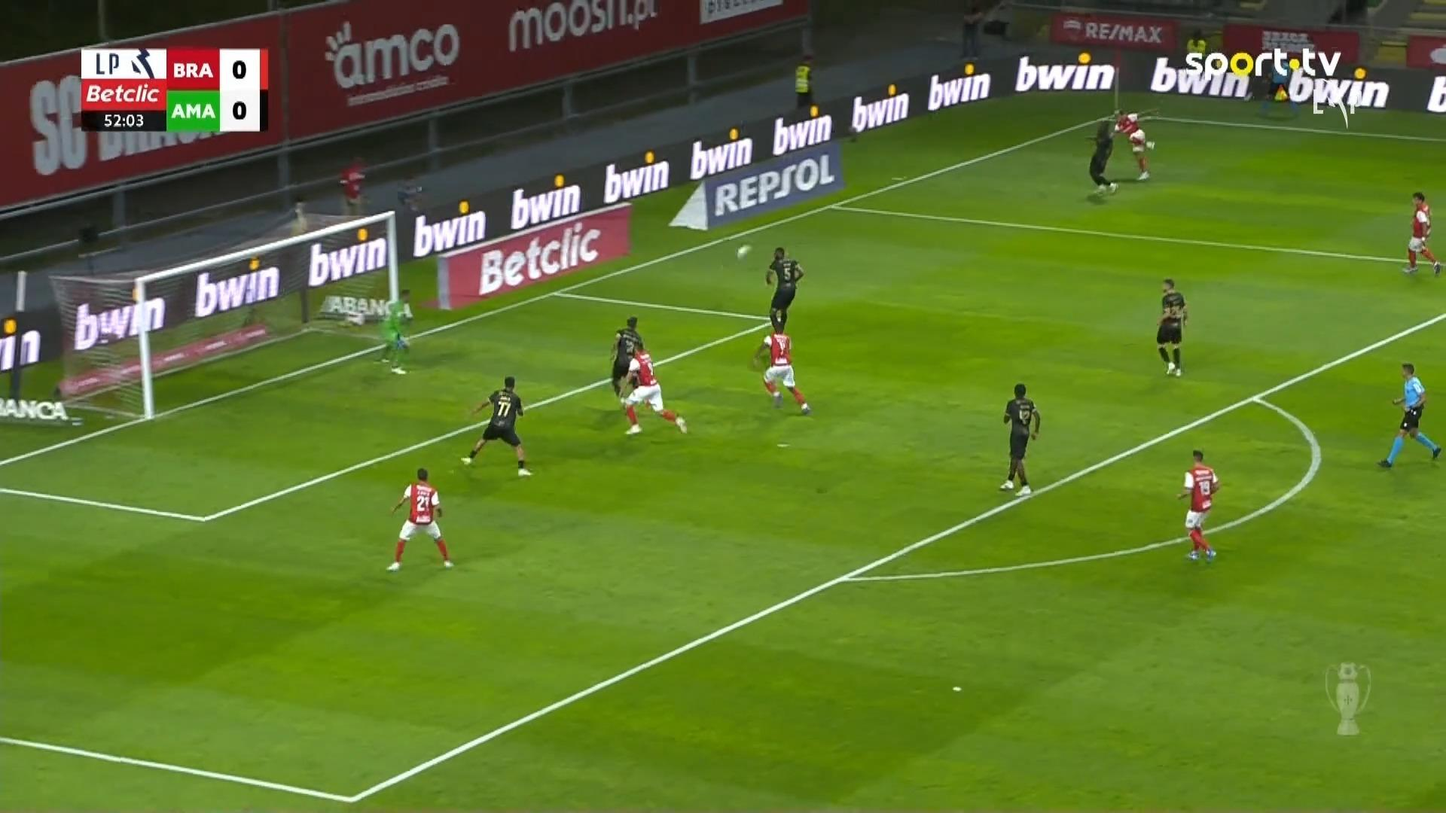ball: (736, 244, 752, 260)
goalkeeper: (377, 288, 413, 375)
player: (459, 375, 532, 477), (385, 467, 453, 571), (617, 340, 688, 435), (751, 311, 811, 415), (1176, 449, 1219, 561), (998, 382, 1039, 496), (1401, 191, 1443, 276), (764, 245, 804, 332), (1155, 278, 1187, 376), (1085, 108, 1121, 194), (1114, 108, 1156, 181), (609, 315, 643, 400)
referee: (1375, 361, 1441, 469)
